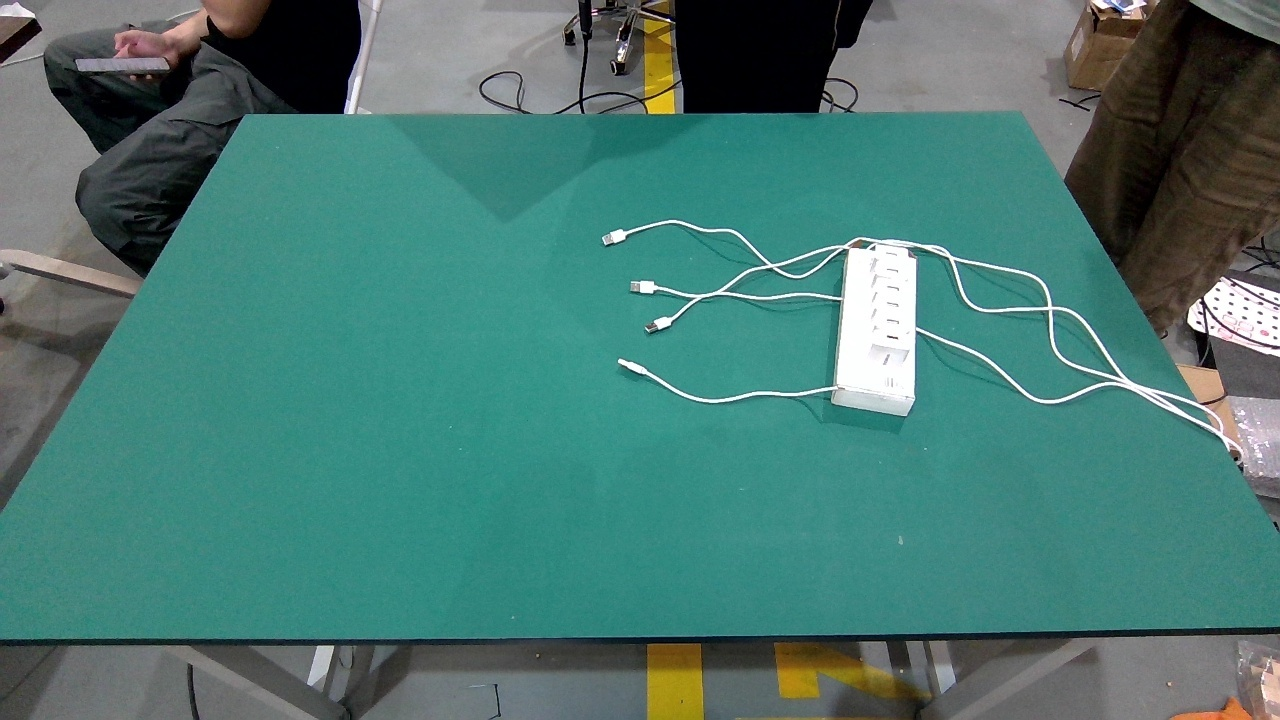usb_a_port: (886, 285, 899, 293), (886, 319, 900, 326), (886, 334, 900, 341), (885, 251, 898, 258), (885, 302, 900, 308), (886, 268, 899, 274)
